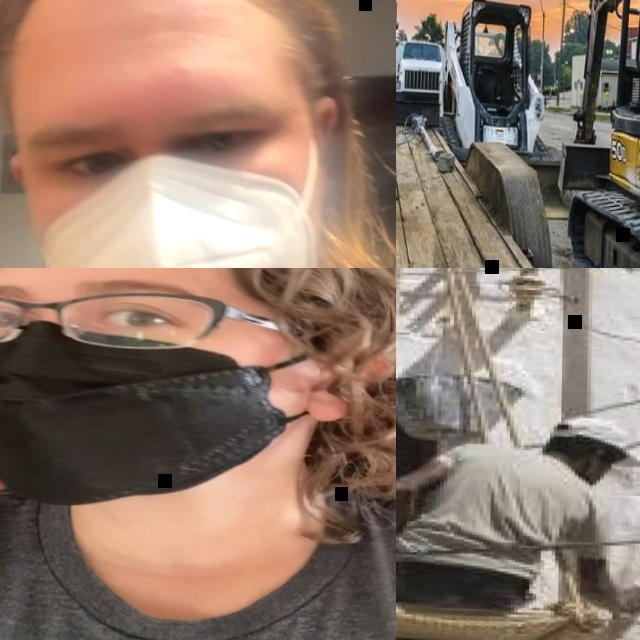Hardhat: (540, 411, 632, 457)
Mask: (0, 320, 336, 509), (34, 151, 323, 268)
NO-Hardhat: (0, 0, 313, 100)
NO-Mask: (577, 455, 607, 483)
NO-Safety Vest: (0, 479, 396, 640), (396, 442, 565, 576)
Person: (0, 268, 396, 640), (0, 0, 396, 268), (396, 400, 640, 640)
machinery: (439, 0, 583, 218), (554, 0, 640, 268), (396, 37, 445, 104)
